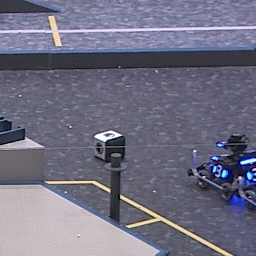Blue: (212, 165, 227, 178), (246, 168, 256, 181)
Robot: (189, 134, 256, 201)
